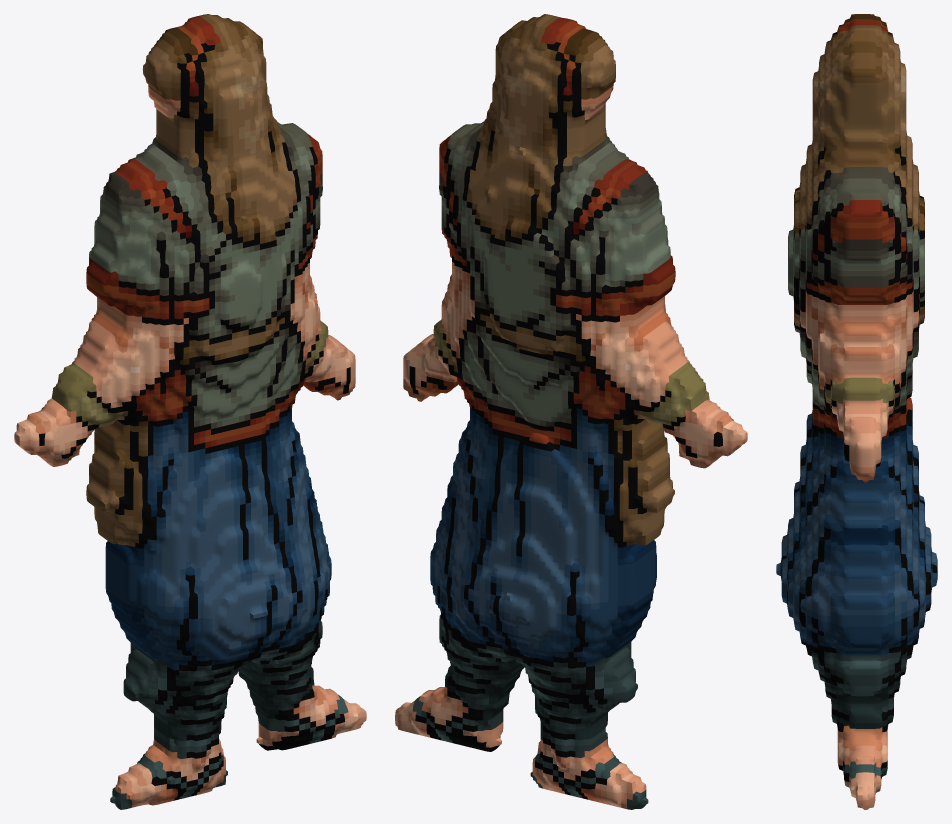
File: Fight_750_1_03.obj
3 renders of one model, left to right at view 1: azimuth 30°, elevation 25°; view 2: azimuth 150°, elevation 25°; view 3: azimuth 270°, elevation 25°, orthographic. The views are drawn at different scales.
Bounding box in the file's own units: 6.2 × 13 × 2.58.
Materials: 1 (1 with a texture image).
